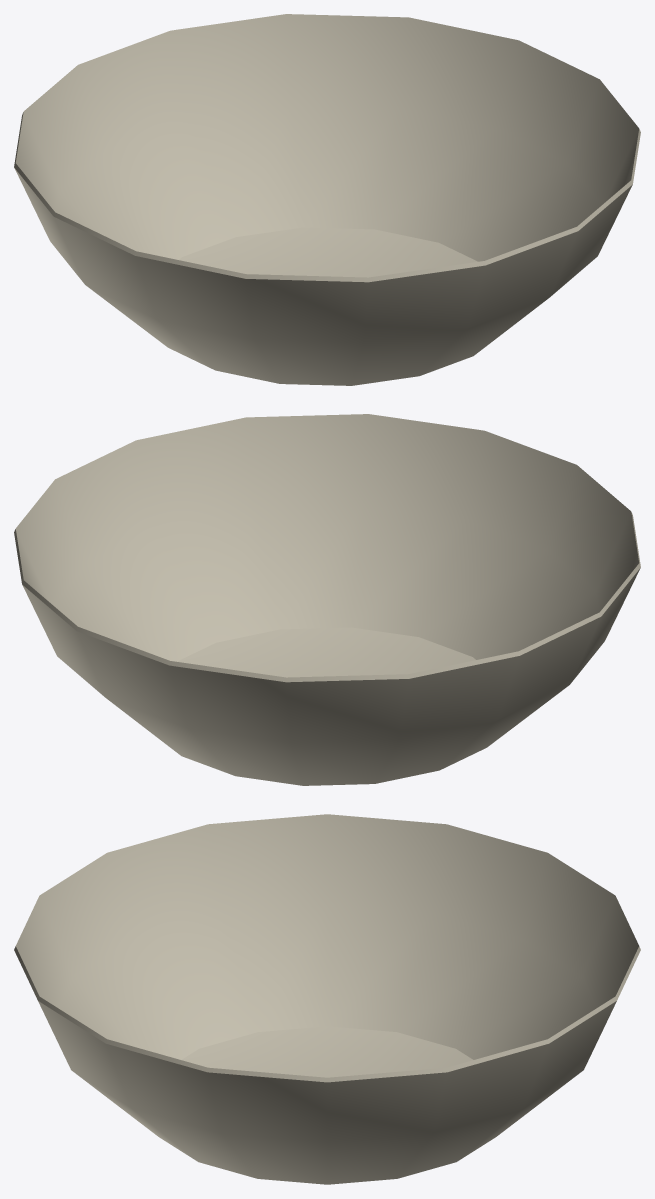
The model's file is bolw1.fbx.
3 views of the same model, one above another, from view 1: azimuth 30°, elevation 25°; view 2: azimuth 150°, elevation 25°; view 3: azimuth 270°, elevation 25° (orthographic).
Parts seen in each view (by area): view 1: bolw1; view 2: bolw1; view 3: bolw1.
Part boxes in pixels (box(x1,y1,x2,y2)): bolw1: box(14, 14, 640, 385); bolw1: box(14, 414, 640, 785); bolw1: box(14, 814, 640, 1184).
Size of the model in its own units: 0.189 by 0.0607 by 0.189.
